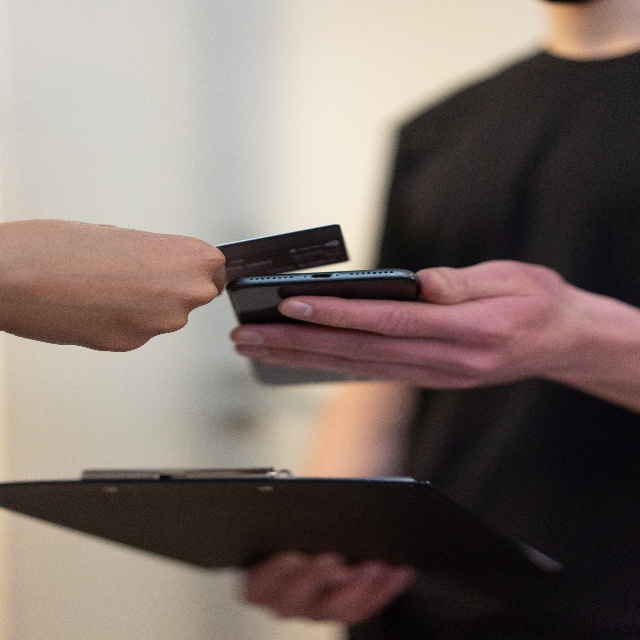Sin_guantes: (229, 256, 577, 396), (0, 211, 233, 372), (246, 537, 417, 628)
